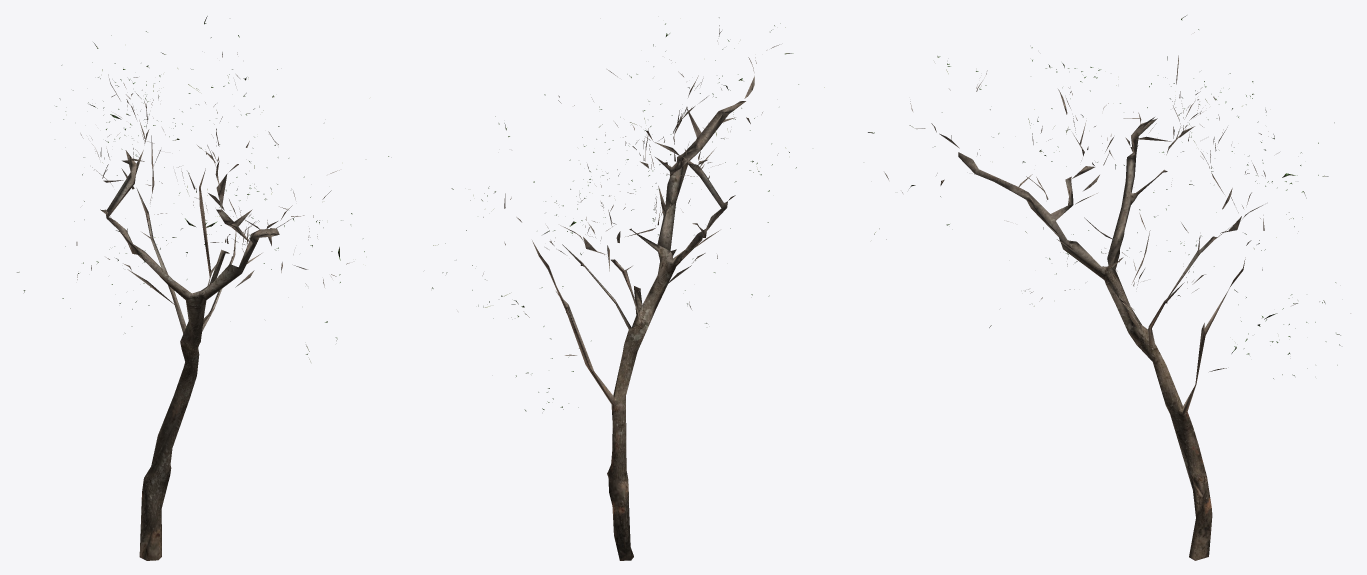
Rendered from tree_small_02.glb.
3 renders of one model, left to right at view 1: azimuth 30°, elevation 25°; view 2: azimuth 150°, elevation 25°; view 3: azimuth 270°, elevation 25°, orthographic. The views are drawn at different scales.
Parts seen in each view (by area): view 1: tree_small_02_LOD0; view 2: tree_small_02_LOD0; view 3: tree_small_02_LOD0.
Boxes of the visible parts, x1,y1,x2,y2 form: tree_small_02_LOD0: [17, 16, 388, 560]; tree_small_02_LOD0: [432, 17, 824, 560]; tree_small_02_LOD0: [868, 15, 1350, 560].
Size of the model in its own units: 2.77 by 4.48 by 3.94.
3 materials, 3 textured.
